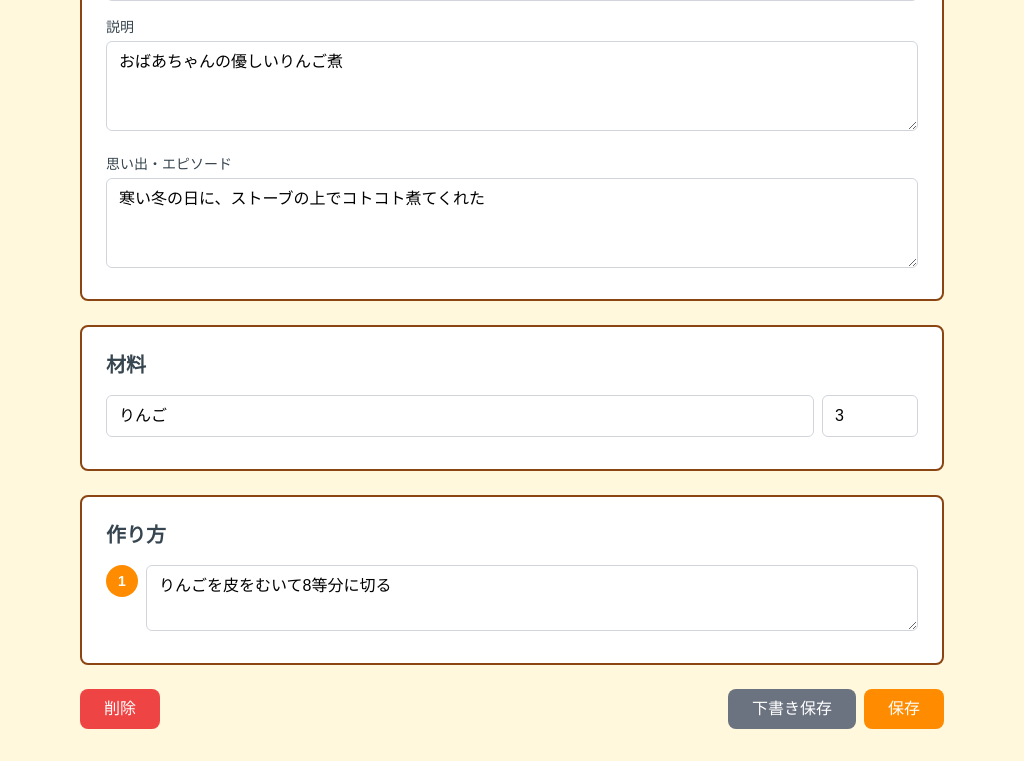
RecipeEditPage › should show confirmation dialog when delete button is clicked
(page scrolled)
Click the button "削除": (120, 709) [80,689,160,729]
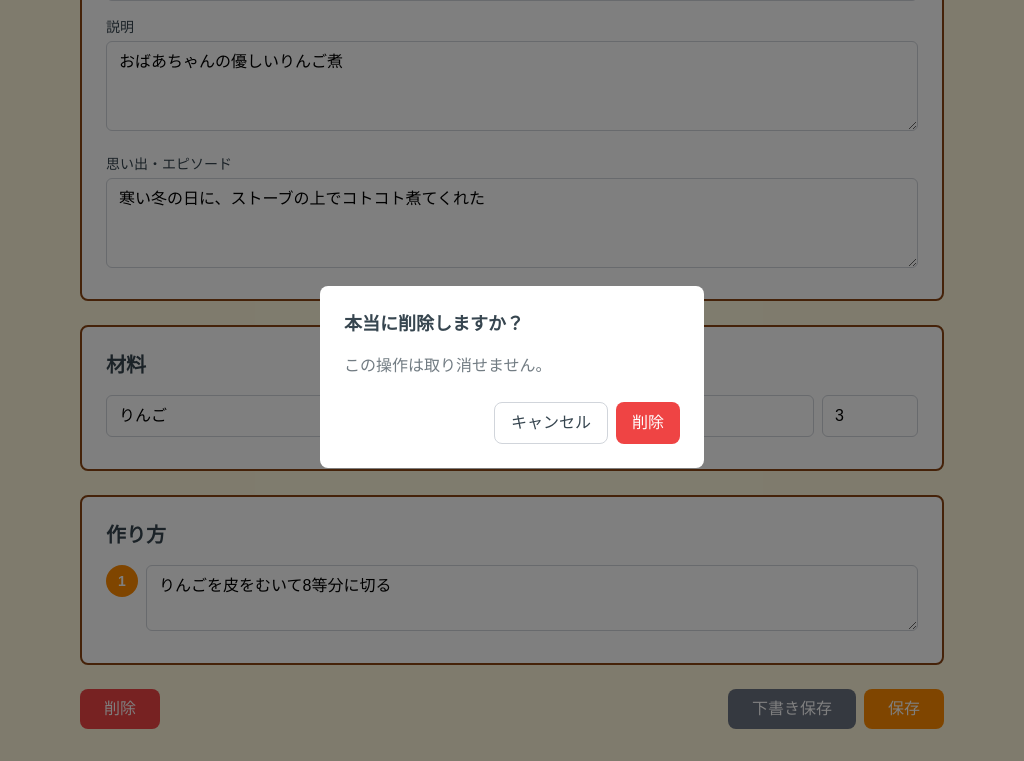
Check: the heading "本当に削除しますか？" is shown, box [344,314,524,334]
